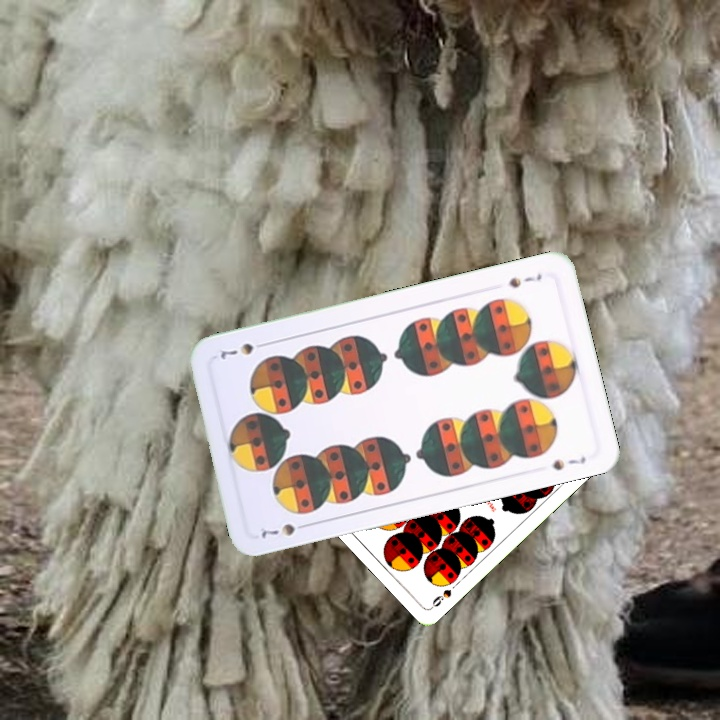S7: (257, 519, 313, 542), (504, 269, 545, 291)
S9: (427, 585, 454, 612)
